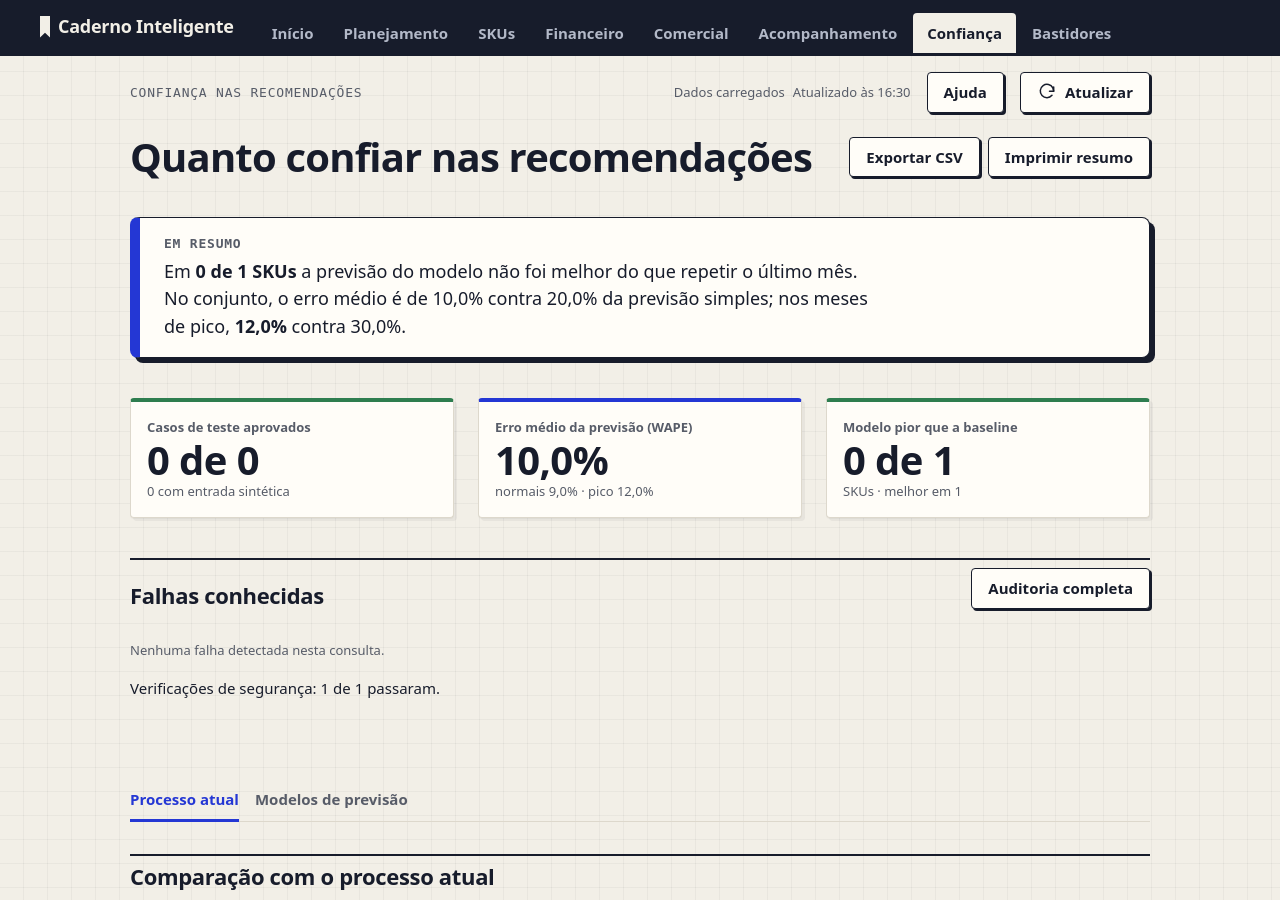
laboratório de previsão na Validação › compara baseline, motor v1 e motor rolante, com viés assinado
Expected: the heading "Em resumo" is shown, [164, 236, 242, 251]
Click the tab "Modelos de previsão": (331, 801) [255, 780, 408, 822]
(page scrolled)
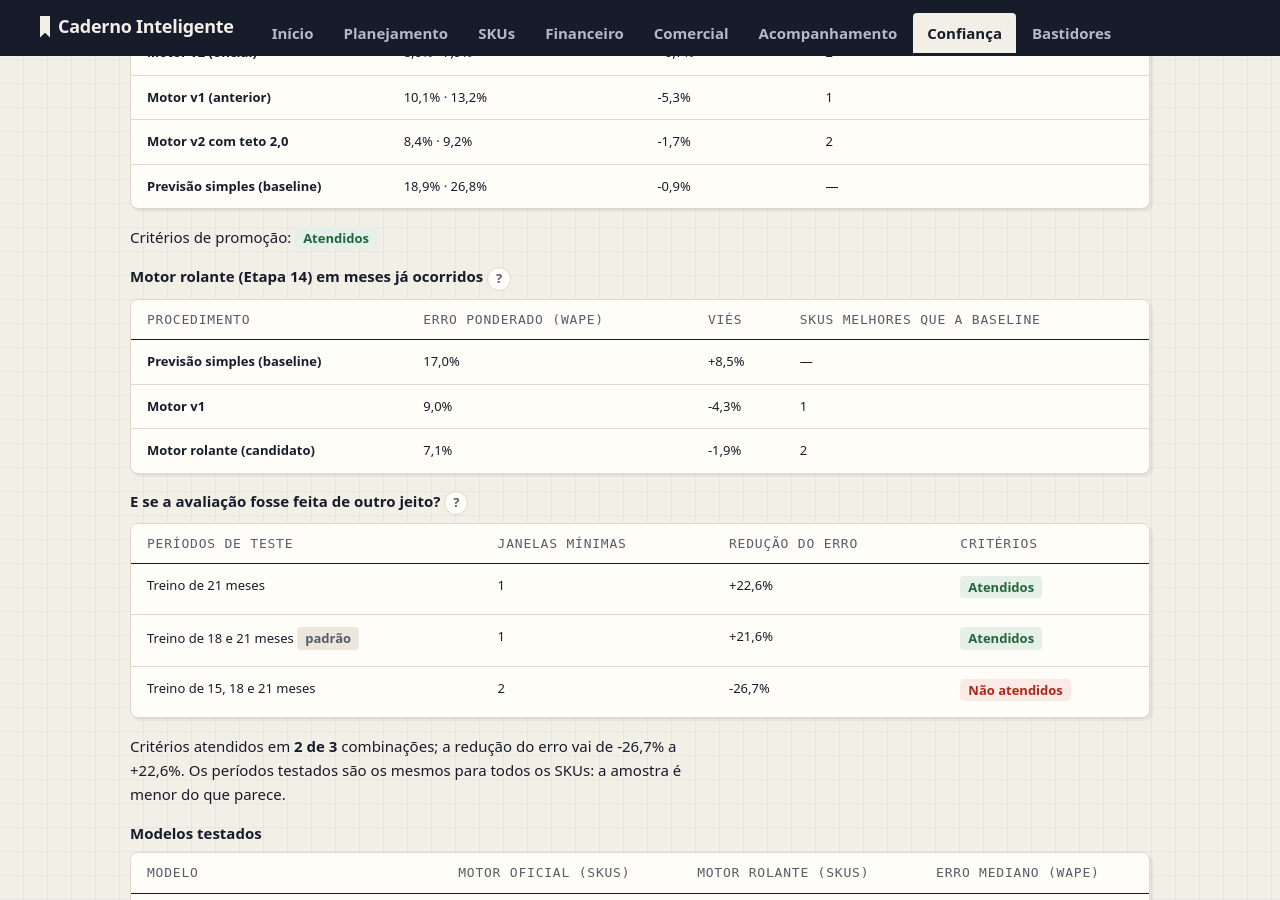
Result: the text "17,0%" is shown at [407, 340, 692, 384]
Result: the text "+8,5%" is shown at [692, 340, 784, 384]
Result: the text "9,0%" is shown at [407, 384, 692, 429]
